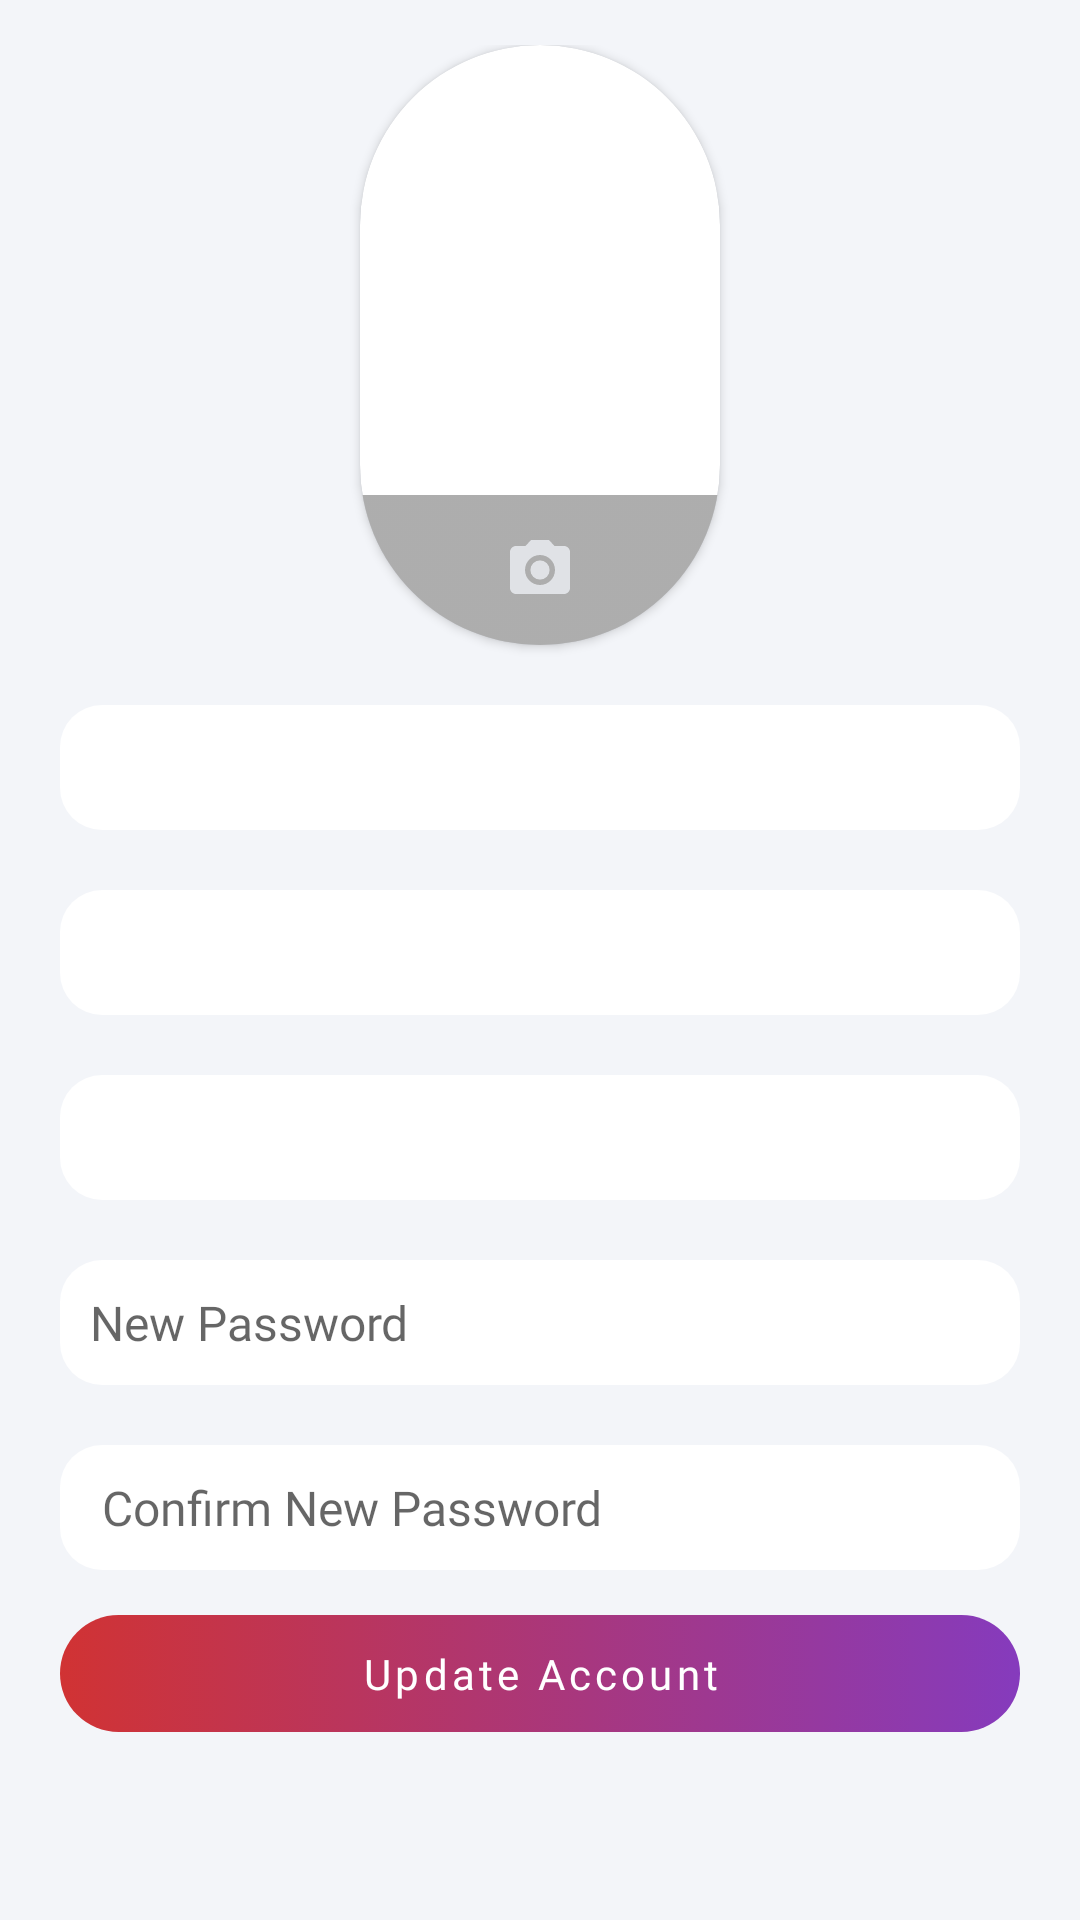

Screen size 1080x1920. Icon name, then its center in pixels as [x,y]:
camera: [540,567]
